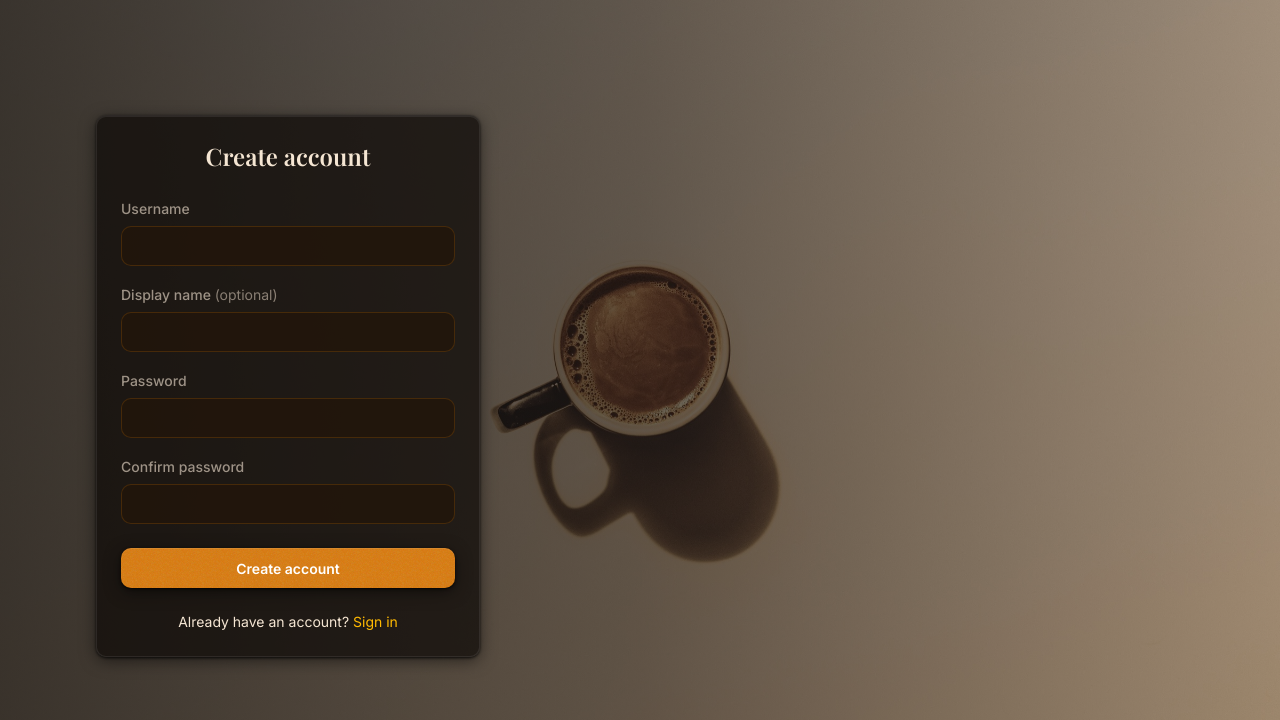
it: Register page › shows password too short error on blur
In the password field labelled "Password": (288, 418) [121,398,455,438], type "short"
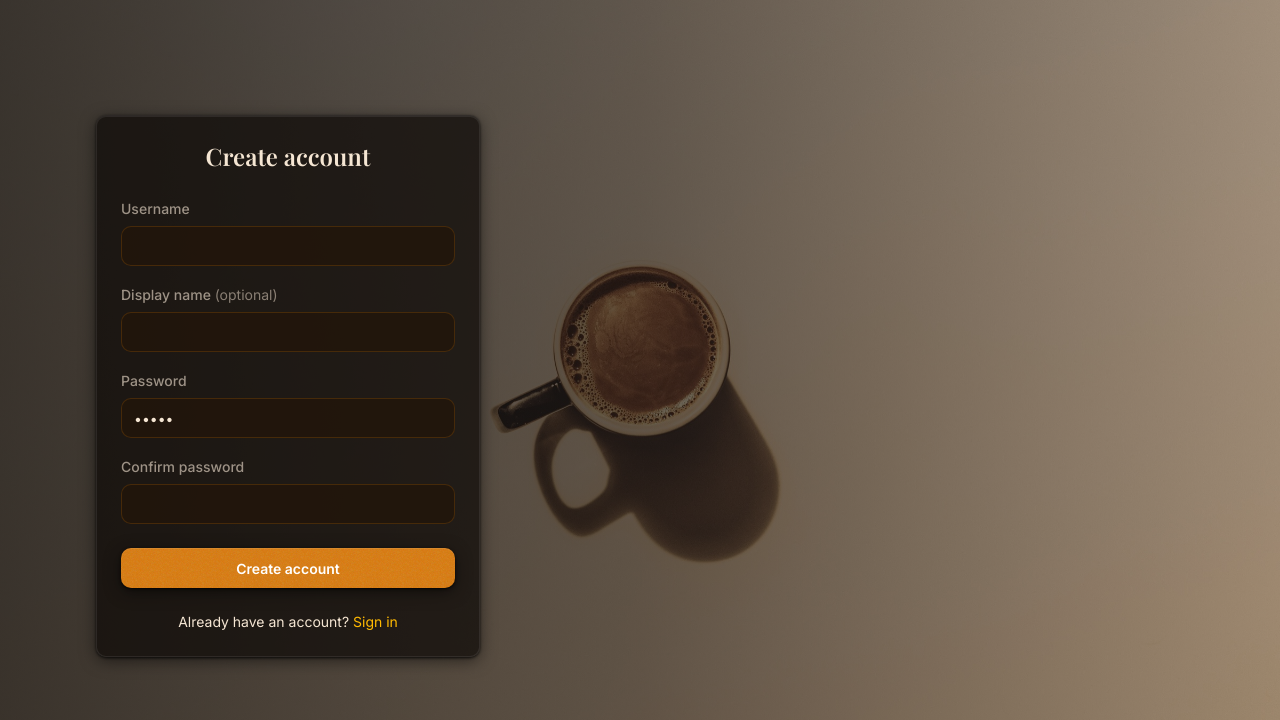
Leave the password field labelled "Password", box [121,398,455,438]
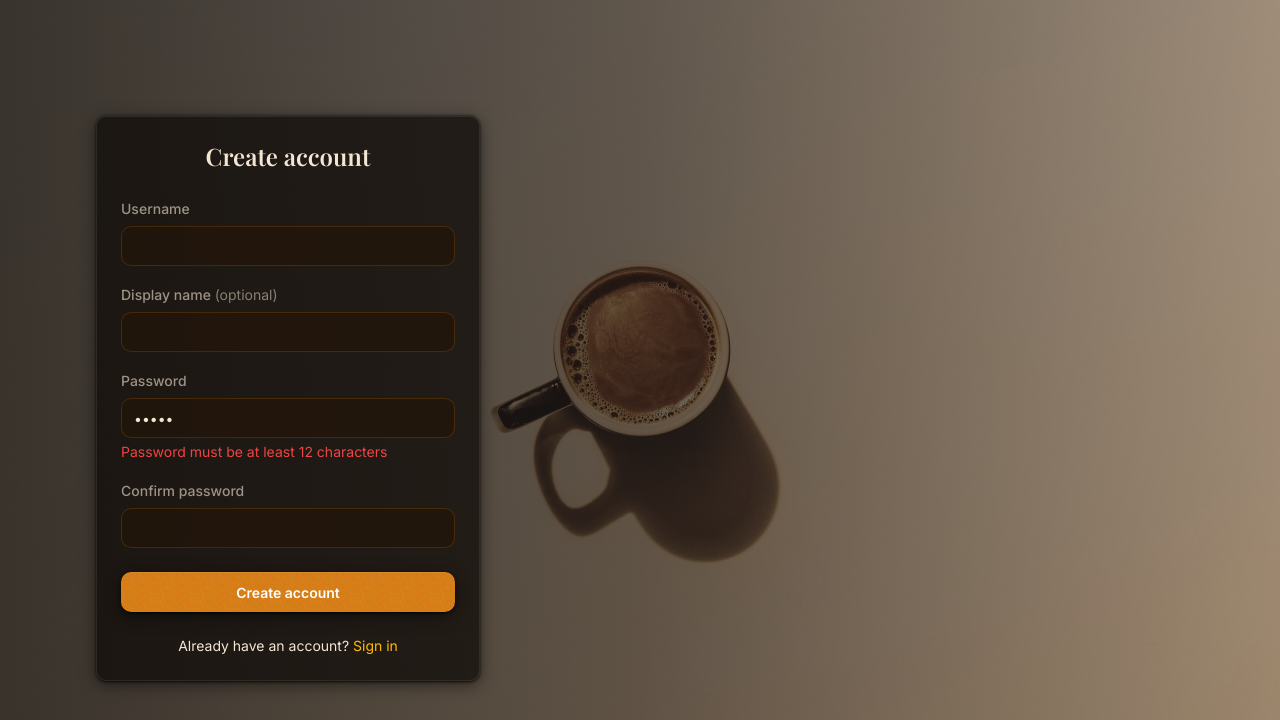
Expected: the message reads "Password must be at least 12 characters", [121,443,387,460]
